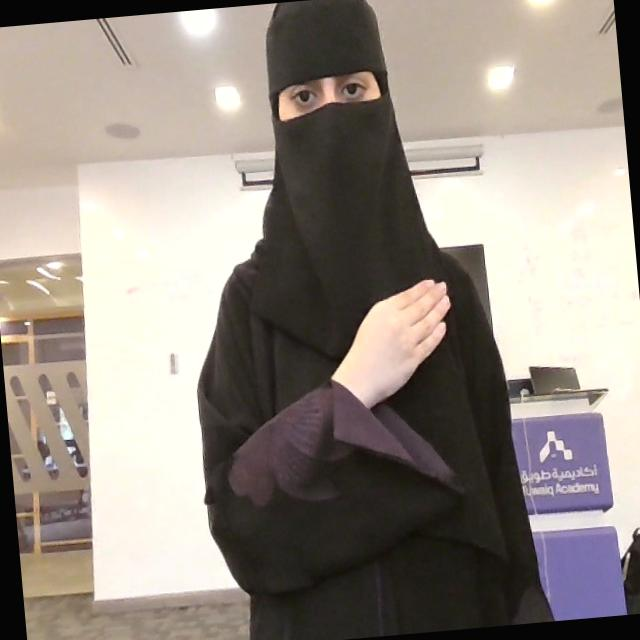result: (323, 275, 460, 412)
